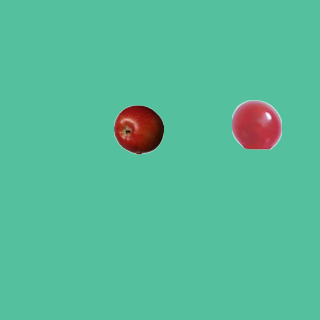Apple Braeburn: (113, 104, 163, 154)
Redcurrant: (231, 99, 281, 149)
